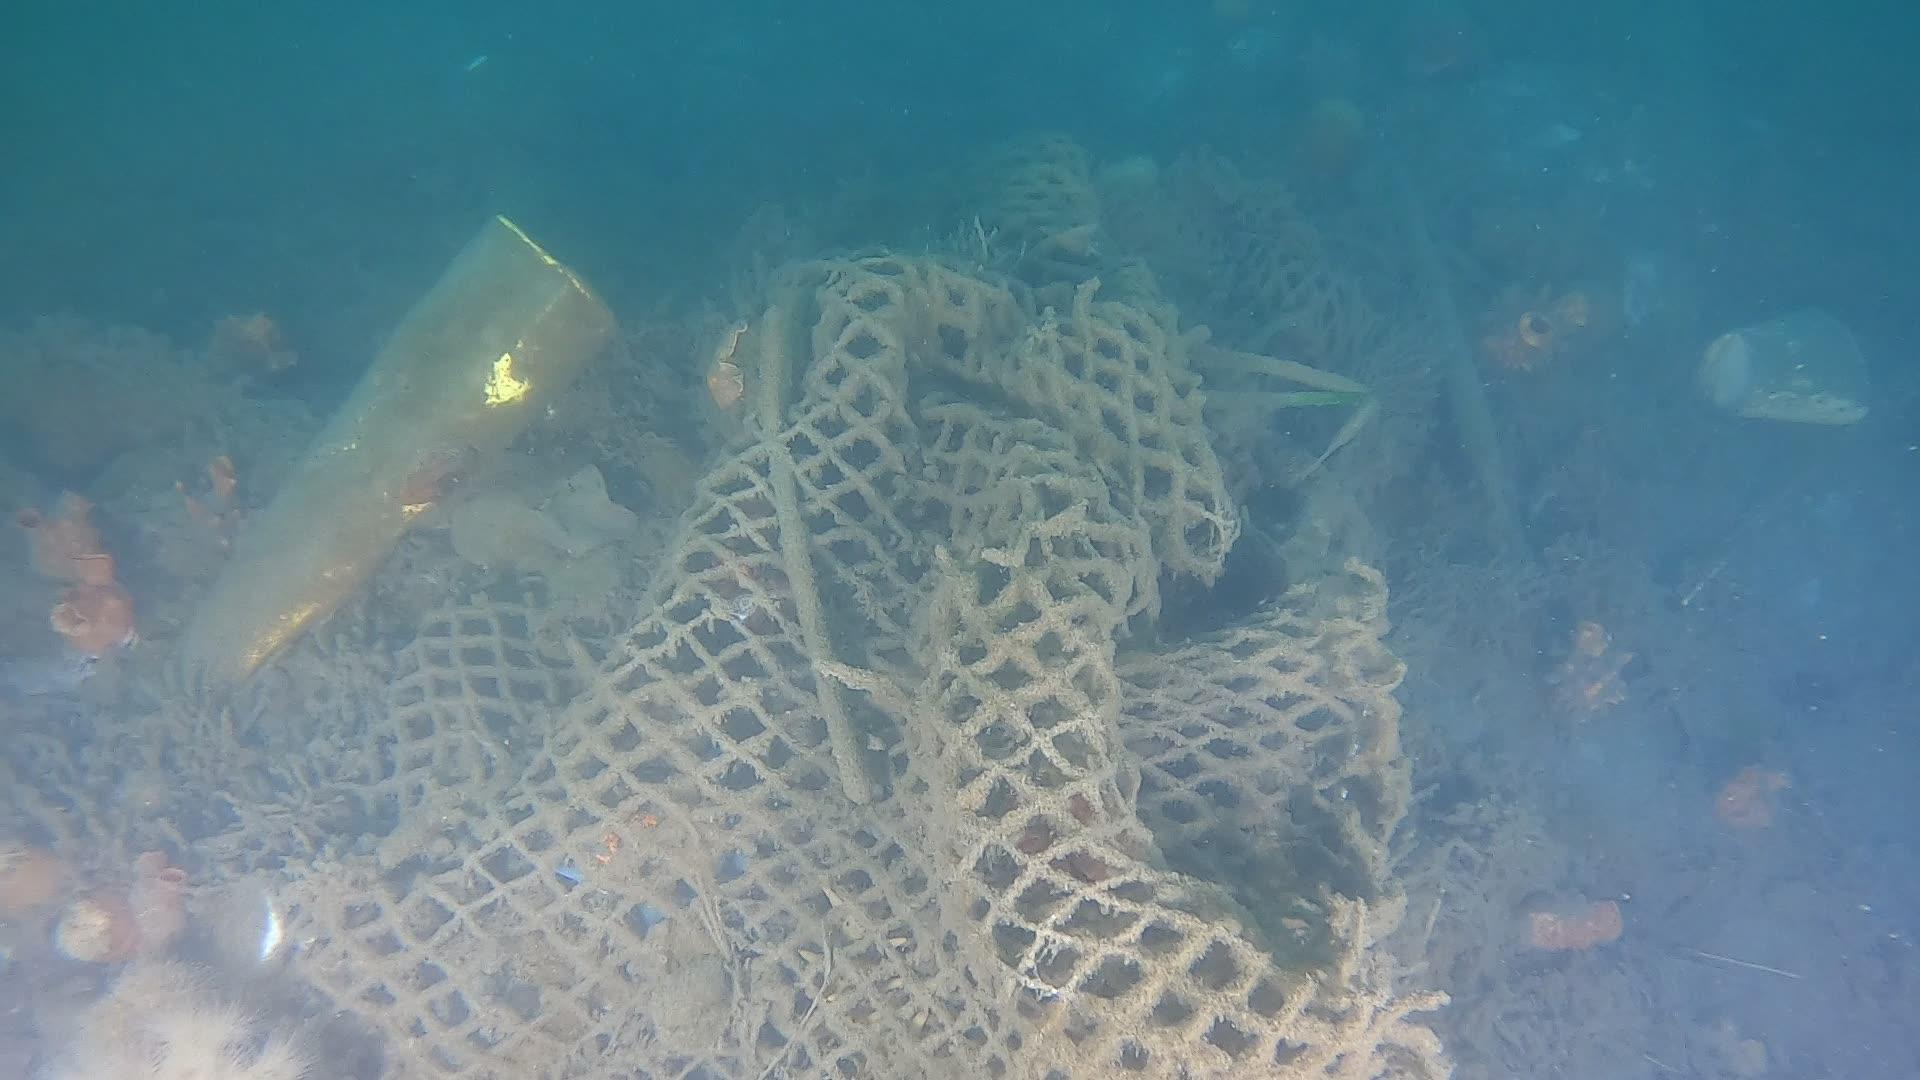fish net: (280, 119, 1456, 1080)
